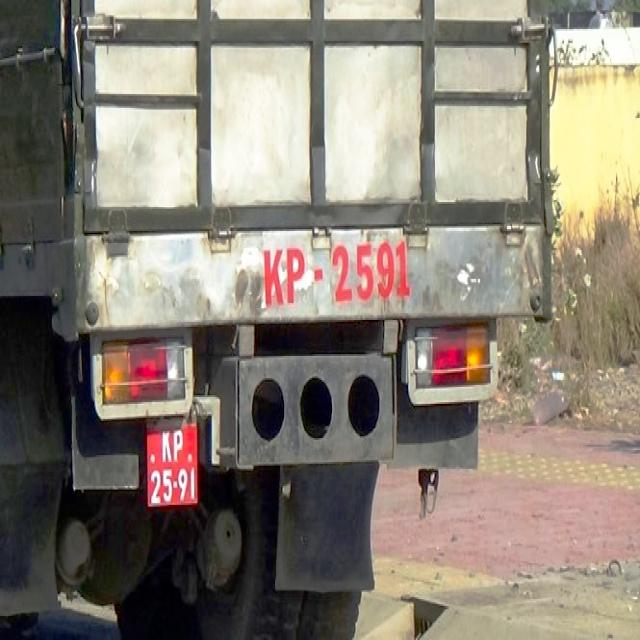license_plate: (149, 423, 199, 507)
